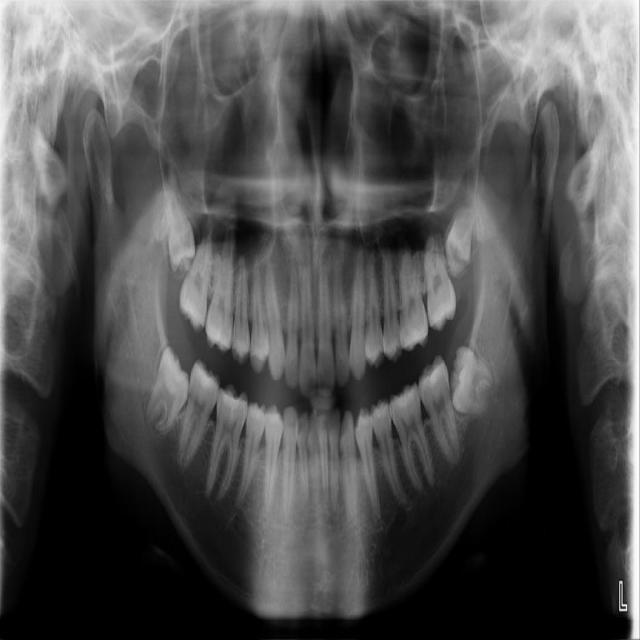3M ESPE Implant: (162, 188, 198, 274)
73: (592, 590, 596, 600)
BioHorizons Implant: (418, 200, 458, 332)
BioLife Implant: (443, 202, 475, 276)
Biomet 3i Implant: (443, 344, 499, 418)
Blue Sky Bio Implant: (413, 353, 464, 469)
Caries: (176, 190, 221, 334)
Implant: (174, 356, 225, 474)
Keystone Dental Implant: (140, 345, 202, 439)
